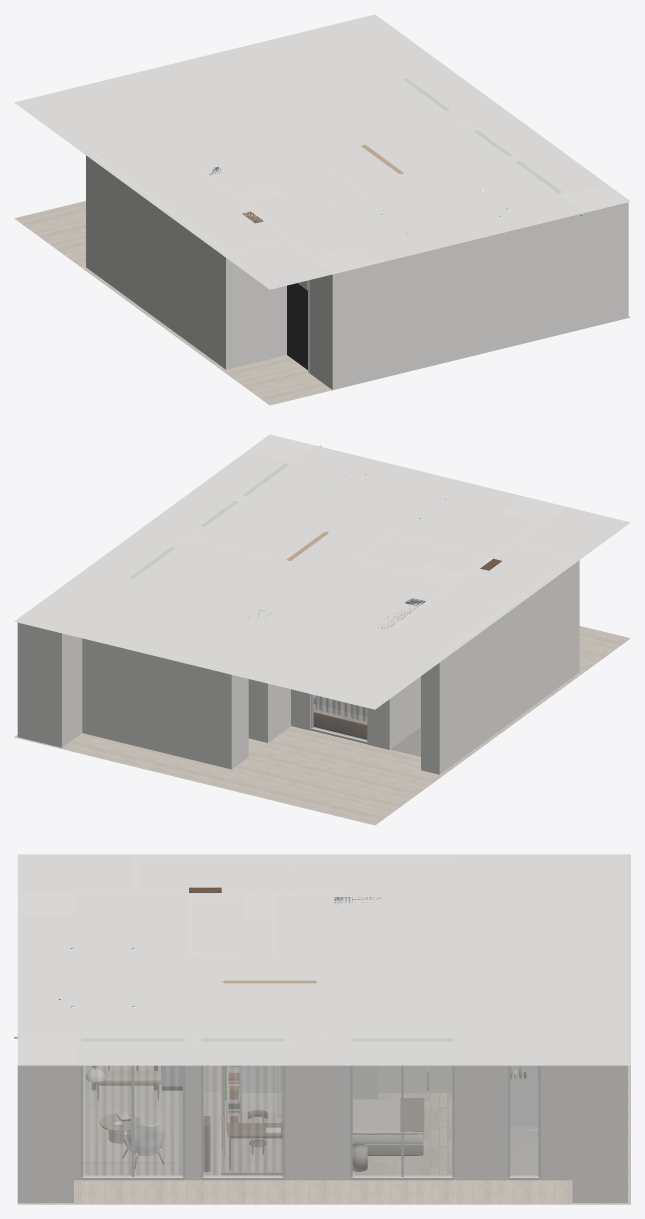
Rendered from apartment_mobile-BWUrCF6z.glb.
The picture shows the model from 3 angles, top to bottom: view 1: azimuth 30°, elevation 25°; view 2: azimuth 150°, elevation 25°; view 3: azimuth 270°, elevation 25°; orthographic projection. The views are drawn at different scales.
Visible parts, largest first — view 1: ceiling, wall_38, wall_10, wall_36, floor_tile, wall_37, wall_33, door_entrance, wall_34; view 2: ceiling, floor_tile, wall_10, wall_1, wall_0, wall_9, win_bedB_glass, wall_14, wall_6, wall_2, wall_12, wall_36 (+5 smaller); view 3: ceiling, floor_tile, win_east3_glass, curtain_east_living, win_east1_glass, wall_37, win_east2_glass, curtain_east_studio, wall_17, wall_0, wall_5, floor_oak_master (+25 smaller).
Boxes of the visible parts, x1,y1,x2,y2 form: ceiling: [14, 14, 630, 289]; wall_38: [377, 213, 584, 379]; wall_10: [89, 152, 231, 369]; wall_36: [309, 246, 376, 389]; floor_tile: [14, 201, 630, 405]; wall_37: [566, 185, 628, 327]; wall_33: [229, 236, 289, 368]; door_entrance: [287, 283, 307, 369]; wall_34: [558, 192, 589, 328]; ceiling: [14, 434, 630, 709]; floor_tile: [14, 626, 630, 825]; wall_10: [438, 555, 579, 771]; wall_1: [82, 638, 234, 769]; wall_0: [17, 622, 82, 747]; wall_9: [421, 653, 442, 774]; win_bedB_glass: [313, 695, 366, 740]; wall_14: [389, 588, 450, 746]; wall_6: [219, 613, 270, 742]; wall_2: [232, 648, 248, 766]; wall_12: [367, 627, 392, 749]; wall_36: [501, 496, 567, 524]; ceiling: [17, 854, 630, 1065]; floor_tile: [17, 1065, 630, 1204]; win_east3_glass: [83, 1066, 182, 1176]; curtain_east_living: [83, 1066, 182, 1174]; win_east1_glass: [353, 1066, 451, 1176]; wall_37: [17, 1041, 73, 1202]; win_east2_glass: [204, 1066, 282, 1176]; curtain_east_studio: [204, 1066, 282, 1174]; wall_17: [285, 1038, 349, 1180]; wall_0: [572, 1065, 627, 1202]; wall_5: [454, 1039, 507, 1180]; floor_oak_master: [352, 1093, 452, 1175].
Bounding box in the file's own units: 9.79 × 3 × 12.09.
112 materials, 22 textured.
